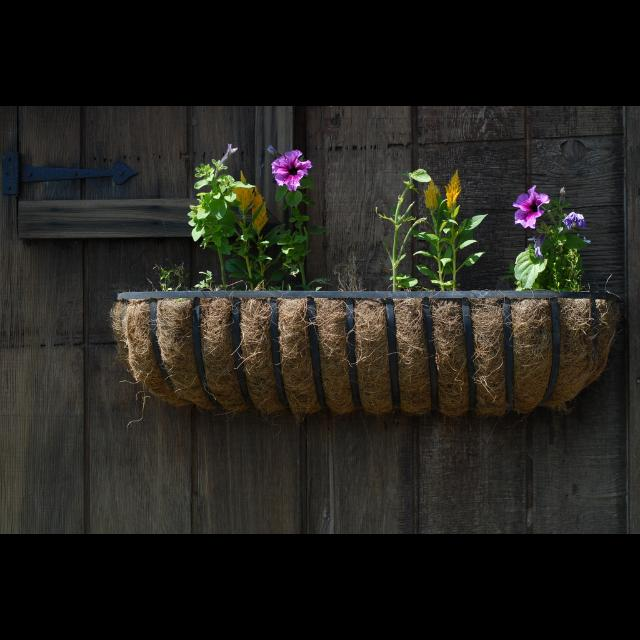Flower: (270, 143, 314, 189), (509, 185, 551, 231), (234, 173, 256, 211), (443, 170, 461, 214), (252, 189, 268, 237), (424, 178, 441, 208), (562, 213, 584, 229), (222, 143, 236, 167), (528, 235, 542, 258)
